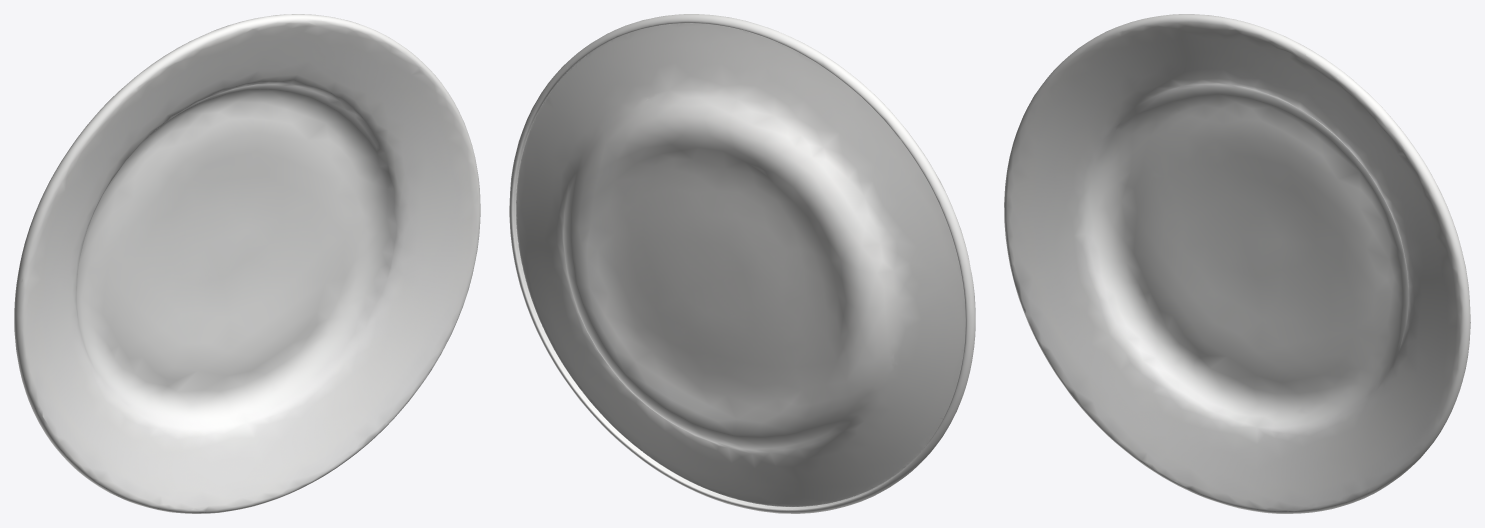
The model's file is plate.obj.
3 views of the same model, side by side, from view 1: azimuth 30°, elevation 25°; view 2: azimuth 150°, elevation 25°; view 3: azimuth 330°, elevation 25° (orthographic).
Visible parts, largest first — view 1: plate; view 2: plate; view 3: plate.
Boxes of the visible parts, x1,y1,x2,y2 form: plate: (14,14,480,513); plate: (509,14,975,513); plate: (1004,14,1470,513).
Bounding box in the file's own units: 0.1912 × 0.1912 × 0.0212.
Materials: 1 (1 with a texture image).
